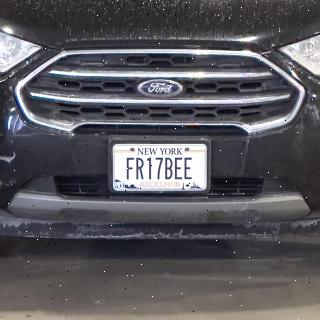license: (108, 135, 212, 194)
